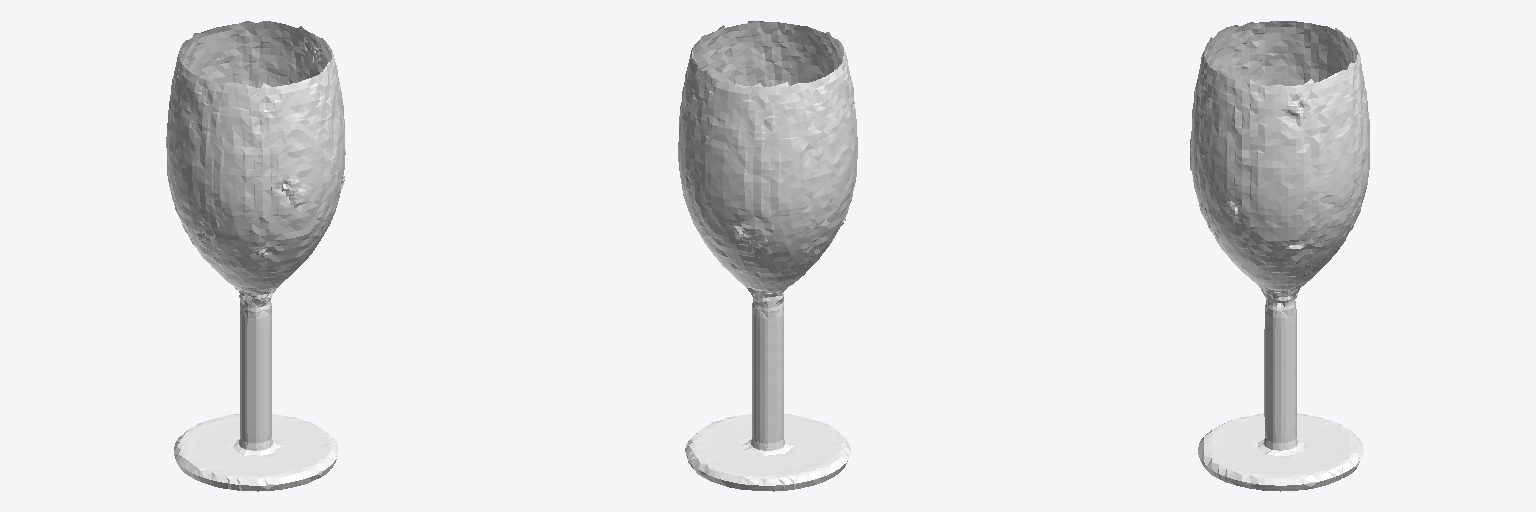
robot.urdf — custom:
<?xml version="1.0"?>
<robot name="custom">
  <material name="Blanc">
    <color rgba="1.0 1.0 1.0 1.0"/>
  </material>
  <link name="base_link">
    <visual>
      <origin xyz="0 0 0" rpy="0 0 0"/>
      <geometry>
        <mesh filename="use_wine_glass.obj" scale="1 1 1"/>
      </geometry>
      <material name="Blanc"/>
    </visual>
    <collision>
      <origin xyz="0 0 0" rpy="0 0 0"/>
      <geometry>
	 	     <mesh filename="use_wine_glass.obj" scale="1 1 1"/>
      </geometry>
    </collision>
    <contact>
      <lateral_friction value="5.0"/>
      <rolling_friction value="0.0001"/>
      <inertia_scaling value="3.0"/>
    </contact>
    <inertial>
      <origin rpy="0 0 0" xyz="0 0 0"/>
       <mass value="0.05"/>
       <inertia ixx="1" ixy="0" ixz="0" iyy="1" iyz="0" izz="1"/>
    </inertial>
  </link>

</robot>

--- Facts derived from the render (not from the file) ---
The picture shows the robot from 3 angles, left to right: view 1: azimuth 30°, elevation 25°; view 2: azimuth 150°, elevation 25°; view 3: azimuth 270°, elevation 25°; orthographic projection.
Model custom with 1 links and 0 joints (none), rooted at base_link, posed every joint at zero.
Links seen in each view (by area): view 1: base_link; view 2: base_link; view 3: base_link.
Boxes of the visible links, box(x1,y1,x2,y2) form: base_link: box(166, 21, 345, 491); base_link: box(678, 21, 857, 491); base_link: box(1190, 21, 1369, 491).
Size in the robot's own frame: 0.0686 by 0.0689 by 0.172 metres.
Meshes: 1 distinct files referenced, 1 mesh visuals loaded (1 OBJ).
